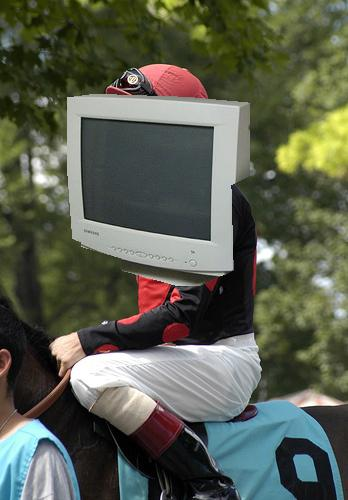tampered: (68, 95, 250, 286)
